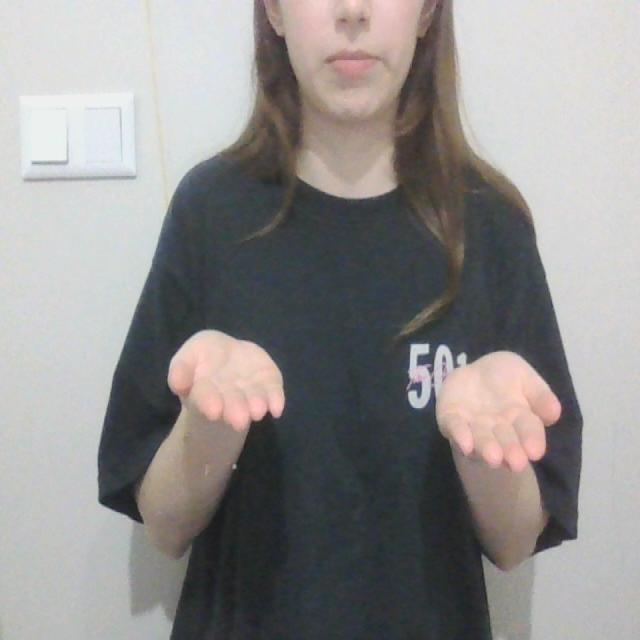Evet: (163, 326, 567, 479)
